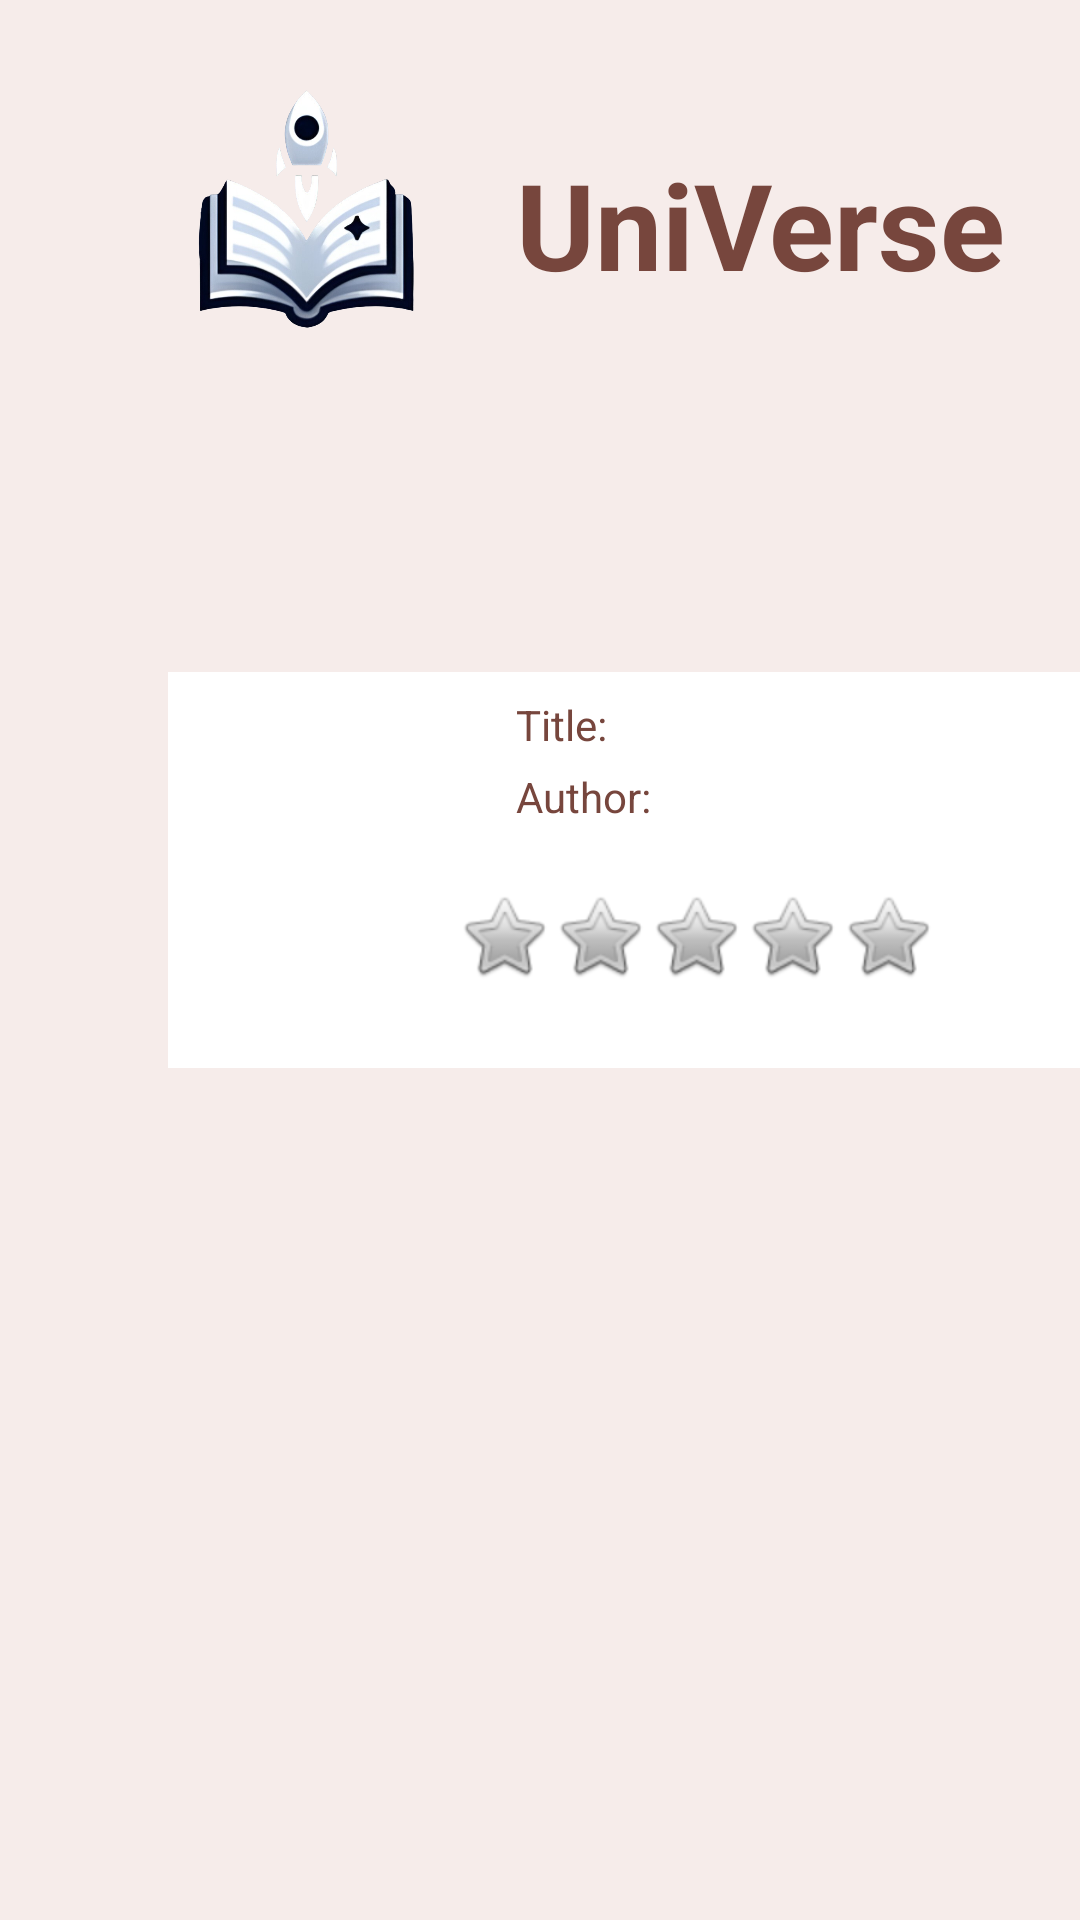

Named icons in this screenshot (1080x1920) and their centers, (x,y):
star: (505,937), (601,937), (697,937), (793,937), (889,937)
